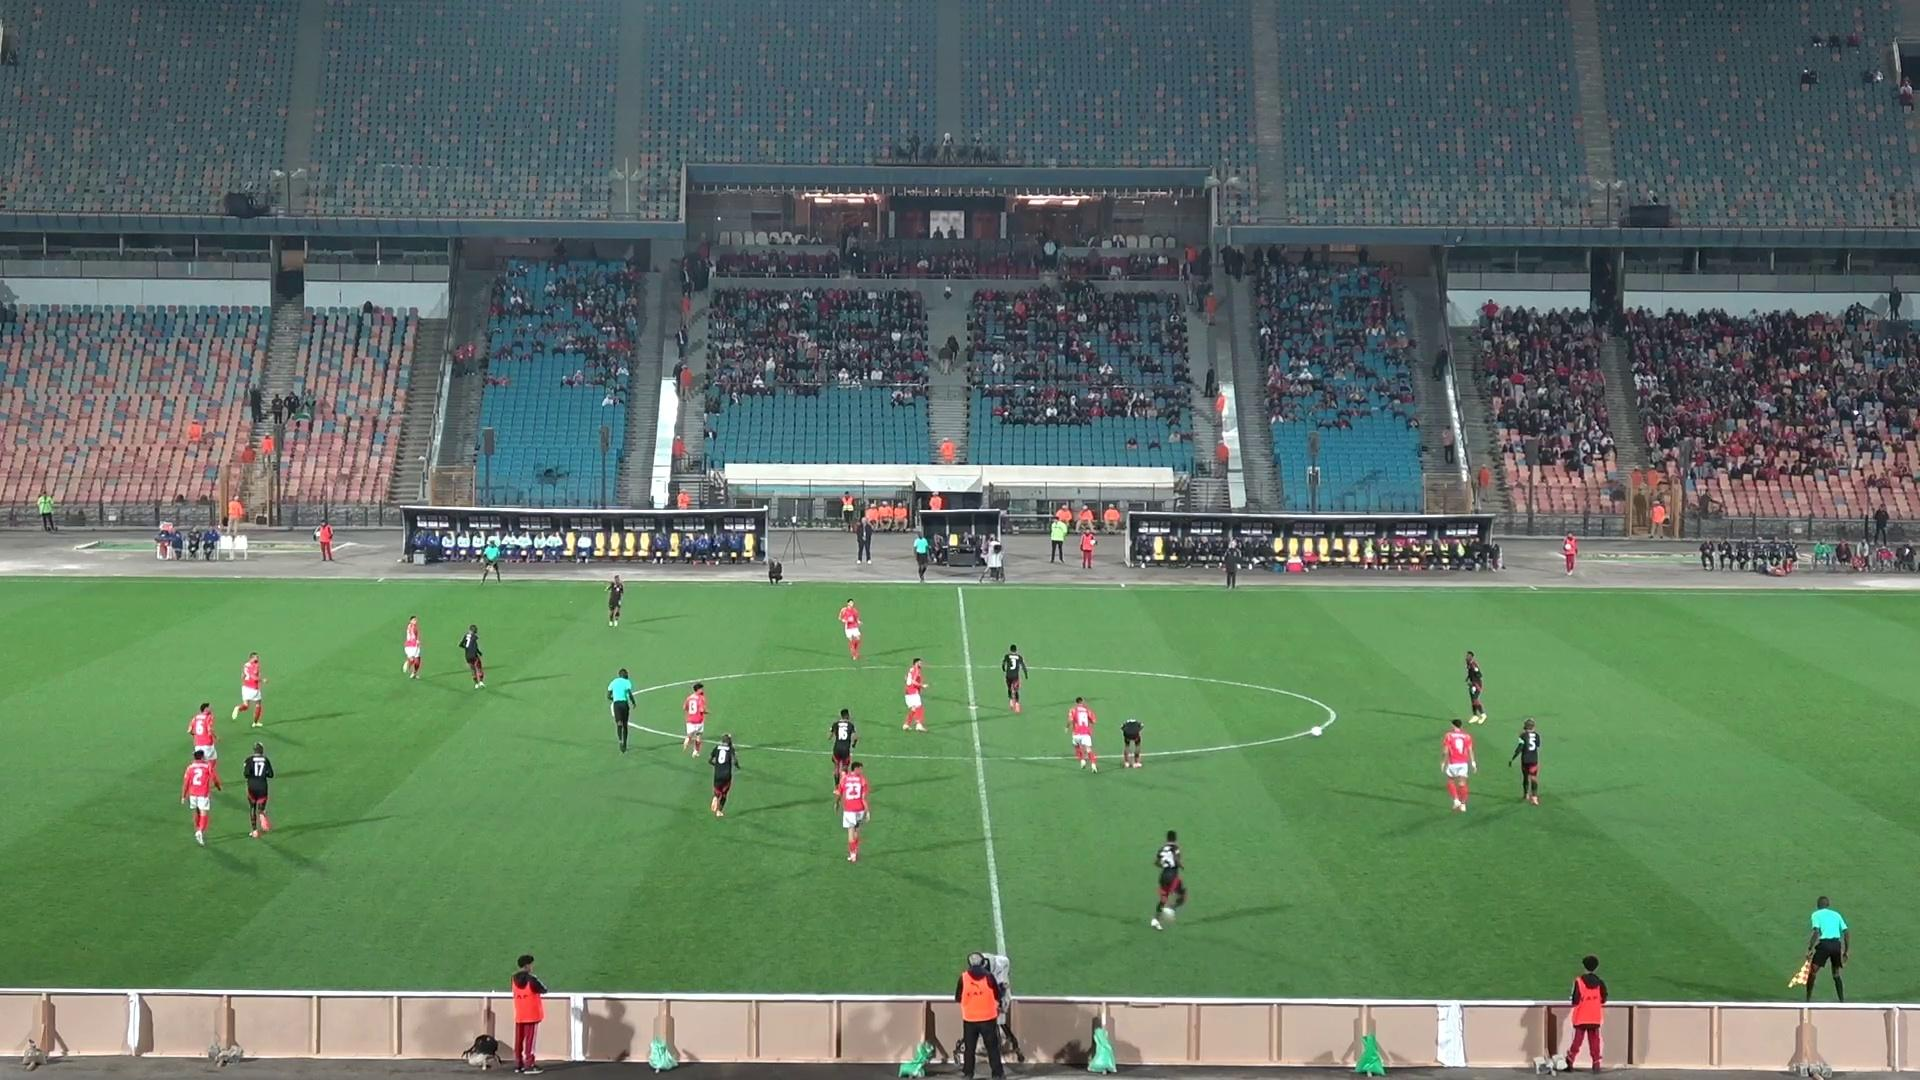Ball: (1308, 723, 1324, 737)
Refree: (1789, 895, 1851, 1001), (605, 669, 636, 752), (477, 535, 505, 582), (913, 526, 932, 582)
Team1: (182, 748, 222, 845), (1439, 719, 1478, 812), (835, 760, 870, 862), (231, 651, 266, 727), (1067, 698, 1098, 770), (899, 658, 927, 731), (682, 680, 708, 756), (836, 597, 862, 661), (187, 702, 216, 758), (401, 615, 422, 678)
Team2: (1150, 832, 1188, 928), (243, 741, 273, 837), (1509, 717, 1542, 804), (705, 733, 738, 816), (1000, 644, 1030, 712), (1462, 651, 1487, 723), (829, 709, 858, 767), (459, 624, 485, 687), (605, 574, 626, 626), (1121, 717, 1143, 766)
